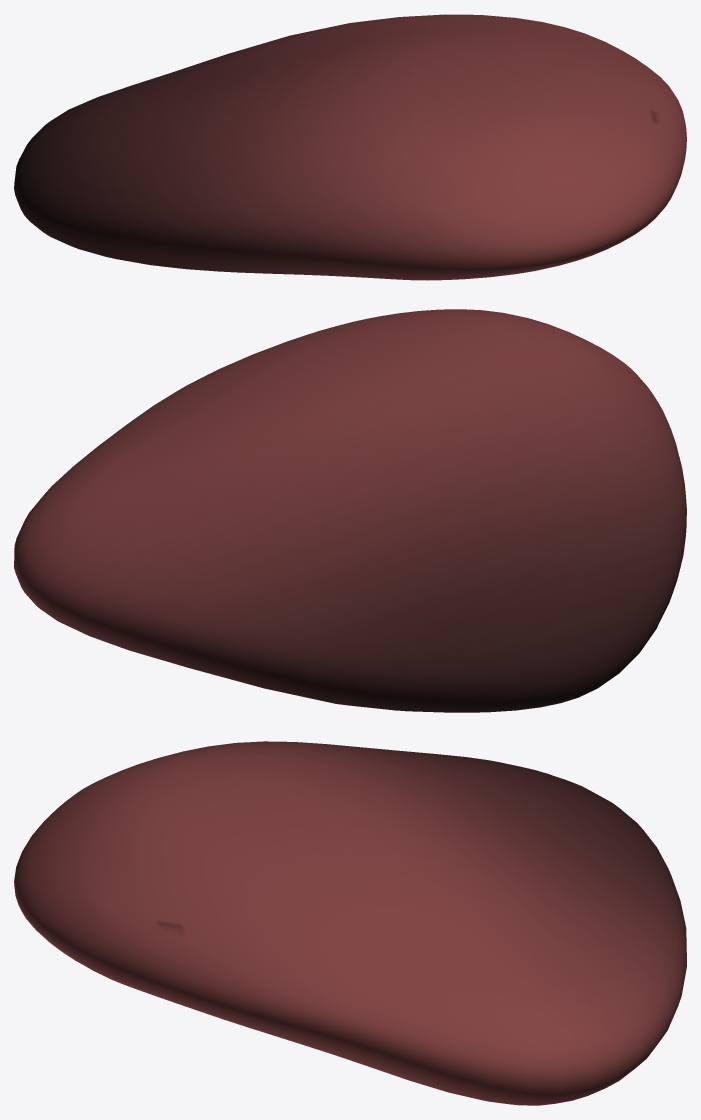
File: tongue.glb
3 views of the same model, one above another, from view 1: azimuth 30°, elevation 25°; view 2: azimuth 150°, elevation 25°; view 3: azimuth 270°, elevation 25° (orthographic).
Parts seen in each view (by area): view 1: tongue; view 2: tongue; view 3: tongue.
Part boxes in pixels (x1,y1,x2,y2): tongue: [14, 14, 686, 280]; tongue: [14, 309, 686, 712]; tongue: [14, 741, 686, 1105].
Bounding box in the file's own units: 0.5001 × 0.1669 × 0.4887.
1 material, 1 textured.
